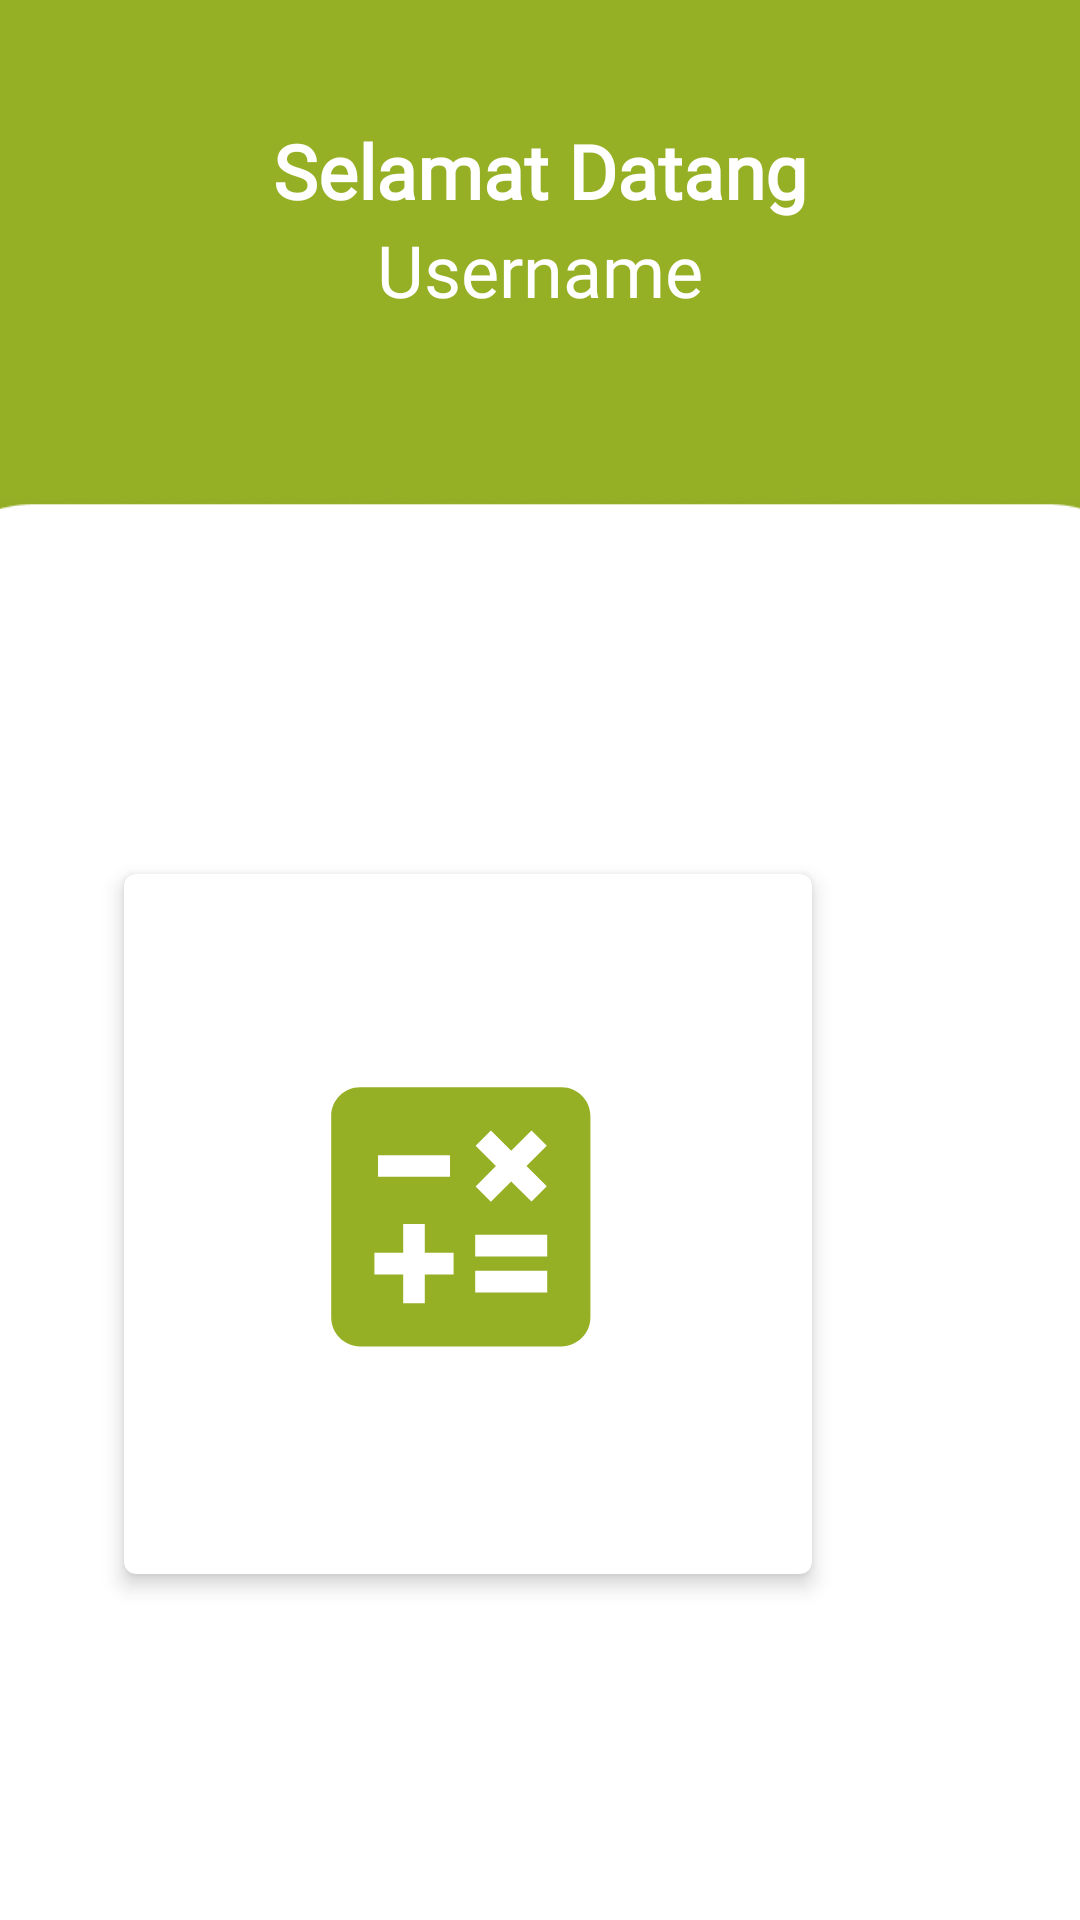

Icon click points for this 1080w x 1920h phone screenshot, format (x,y):
calculate: (461,1217)
